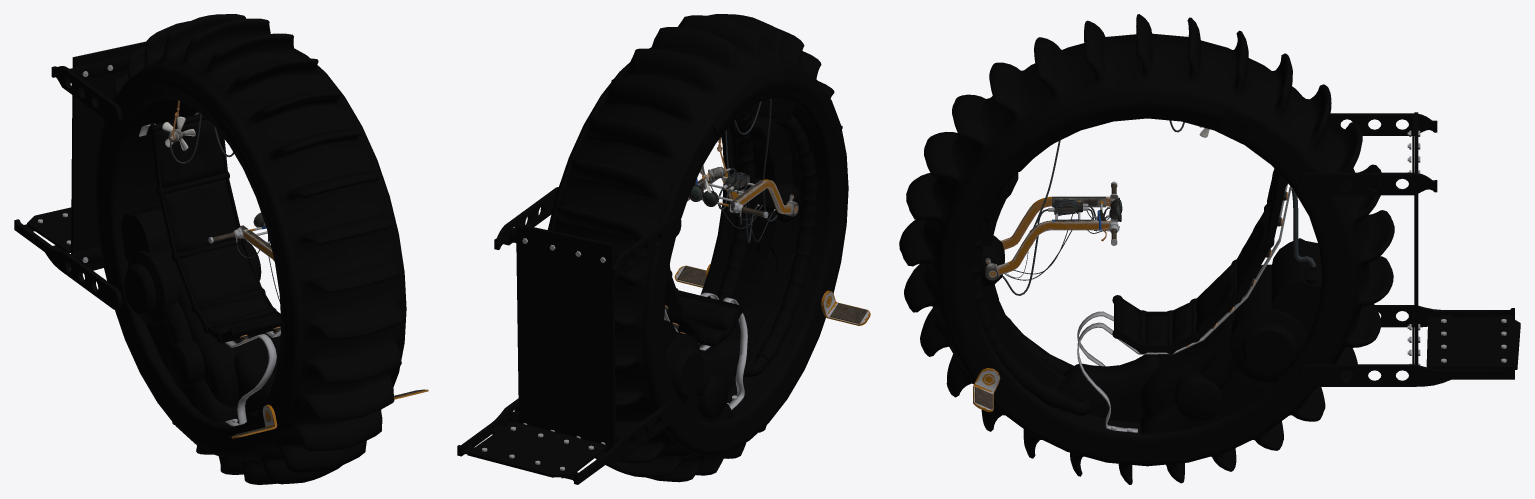
File: DesertMonoWheel.gltf
3 views of the same model, side by side, from view 1: azimuth 30°, elevation 25°; view 2: azimuth 150°, elevation 25°; view 3: azimuth 270°, elevation 25° (orthographic). The views are drawn at different scales.
Parts seen in each view (by area): view 1: Track _SceneBuild_Mat1_0, Wheelframe_SceneBuild_Mat1_0, SeatPillows_SceneBuild_Mat1_0, Engine_SceneBuild_Mat1_0, TrunkPlate_SceneBuild_Mat1_0, Fueltank_SceneBuild_Mat1_0, Seat_SceneBuild_Mat1_0, TrunkMount_SceneBuild_Mat1_0, TrunkPlateMount_SceneBuild_Mat1_0, SeatMount_SceneBuild_Mat2_0, FootRest_SceneBuild_Mat2_0; view 2: Track _SceneBuild_Mat1_0, Wheelframe_SceneBuild_Mat1_0, TrunkPlate_SceneBuild_Mat1_0, Hose_SceneBuild_Mat1_0, Panel_SceneBuild_Mat1_0, TrunkMount_SceneBuild_Mat1_0, Engine_SceneBuild_Mat1_0, Fueltank_SceneBuild_Mat1_0, Seat_SceneBuild_Mat1_0, FootRest_SceneBuild_Mat2_0, SeatPillows_SceneBuild_Mat1_0, SeatMount_SceneBuild_Mat2_0 (+5 smaller); view 3: Track _SceneBuild_Mat1_0, Wheelframe_SceneBuild_Mat1_0, Engine_SceneBuild_Mat1_0, TrunkMount_SceneBuild_Mat1_0, Fueltank_SceneBuild_Mat1_0, TrunkPlate_SceneBuild_Mat1_0, SeatPillows_SceneBuild_Mat1_0, Seat_SceneBuild_Mat1_0, Panel_SceneBuild_Mat1_0, Hose_SceneBuild_Mat1_0, WheelRail_SceneBuild_Mat2_0, SeatMount_SceneBuild_Mat2_0 (+1 smaller).
Part boxes in pixels (bbox=[...]): Track _SceneBuild_Mat1_0: bbox=[103, 14, 403, 484]; Wheelframe_SceneBuild_Mat1_0: bbox=[95, 48, 406, 459]; SeatPillows_SceneBuild_Mat1_0: bbox=[156, 119, 280, 333]; Engine_SceneBuild_Mat1_0: bbox=[146, 286, 280, 422]; TrunkPlate_SceneBuild_Mat1_0: bbox=[27, 41, 145, 273]; Fueltank_SceneBuild_Mat1_0: bbox=[120, 205, 261, 325]; Seat_SceneBuild_Mat1_0: bbox=[149, 114, 281, 343]; TrunkMount_SceneBuild_Mat1_0: bbox=[14, 66, 122, 309]; TrunkPlateMount_SceneBuild_Mat1_0: bbox=[24, 54, 130, 268]; SeatMount_SceneBuild_Mat2_0: bbox=[139, 112, 280, 426]; FootRest_SceneBuild_Mat2_0: bbox=[231, 389, 428, 438]; Track _SceneBuild_Mat1_0: bbox=[553, 14, 842, 482]; Wheelframe_SceneBuild_Mat1_0: bbox=[547, 47, 848, 456]; TrunkPlate_SceneBuild_Mat1_0: bbox=[467, 224, 615, 477]; Hose_SceneBuild_Mat1_0: bbox=[717, 114, 817, 362]; Panel_SceneBuild_Mat1_0: bbox=[731, 116, 800, 351]; TrunkMount_SceneBuild_Mat1_0: bbox=[457, 187, 681, 484]; Engine_SceneBuild_Mat1_0: bbox=[684, 337, 753, 422]; Fueltank_SceneBuild_Mat1_0: bbox=[664, 320, 703, 403]; Seat_SceneBuild_Mat1_0: bbox=[665, 265, 744, 347]; FootRest_SceneBuild_Mat2_0: bbox=[674, 263, 870, 325]; SeatPillows_SceneBuild_Mat1_0: bbox=[679, 295, 737, 338]; SeatMount_SceneBuild_Mat2_0: bbox=[664, 292, 747, 409]; Track _SceneBuild_Mat1_0: bbox=[899, 14, 1394, 484]; Wheelframe_SceneBuild_Mat1_0: bbox=[937, 33, 1357, 466]; Engine_SceneBuild_Mat1_0: bbox=[1057, 310, 1274, 433]; TrunkMount_SceneBuild_Mat1_0: bbox=[1298, 113, 1514, 386]; Fueltank_SceneBuild_Mat1_0: bbox=[1230, 238, 1322, 382]; TrunkPlate_SceneBuild_Mat1_0: bbox=[1414, 112, 1520, 369]; SeatPillows_SceneBuild_Mat1_0: bbox=[1121, 169, 1279, 345]; Seat_SceneBuild_Mat1_0: bbox=[1112, 174, 1287, 354]; Panel_SceneBuild_Mat1_0: bbox=[980, 172, 1064, 389]; Hose_SceneBuild_Mat1_0: bbox=[972, 179, 1069, 410]; WheelRail_SceneBuild_Mat2_0: bbox=[997, 195, 1117, 275]; SeatMount_SceneBuild_Mat2_0: bbox=[1077, 184, 1292, 432].
Size of the model in its own units: 92.29 by 199 by 249.
